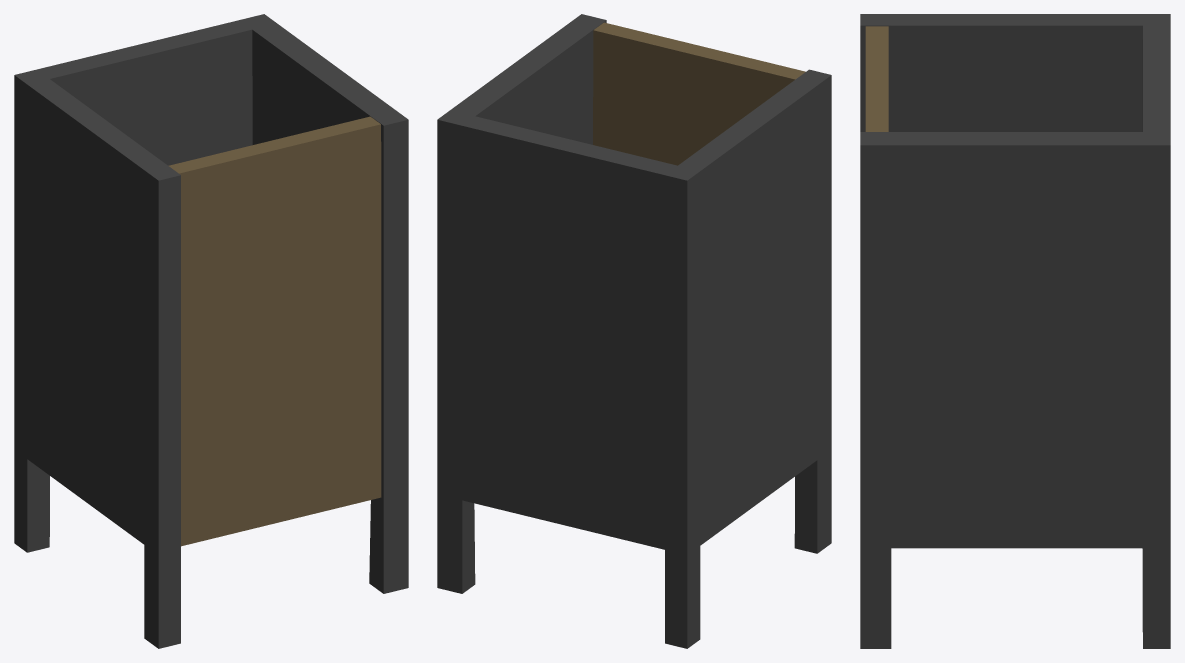
Rendered from DD_9_bathroomStall_HENRY.fbx.
3 renders of one model, left to right at view 1: azimuth 30°, elevation 25°; view 2: azimuth 150°, elevation 25°; view 3: azimuth 270°, elevation 25°, orthographic. The views are drawn at different scales.
Visible parts, largest first — view 1: DD_9_bathroomStall; view 2: DD_9_bathroomStall; view 3: DD_9_bathroomStall.
Boxes of the visible parts, <box> form: DD_9_bathroomStall: <box>14,14,408,648</box>; DD_9_bathroomStall: <box>437,14,831,648</box>; DD_9_bathroomStall: <box>860,14,1170,648</box>.
Bounding box in the file's own units: 9.48 × 16.96 × 9.48.
